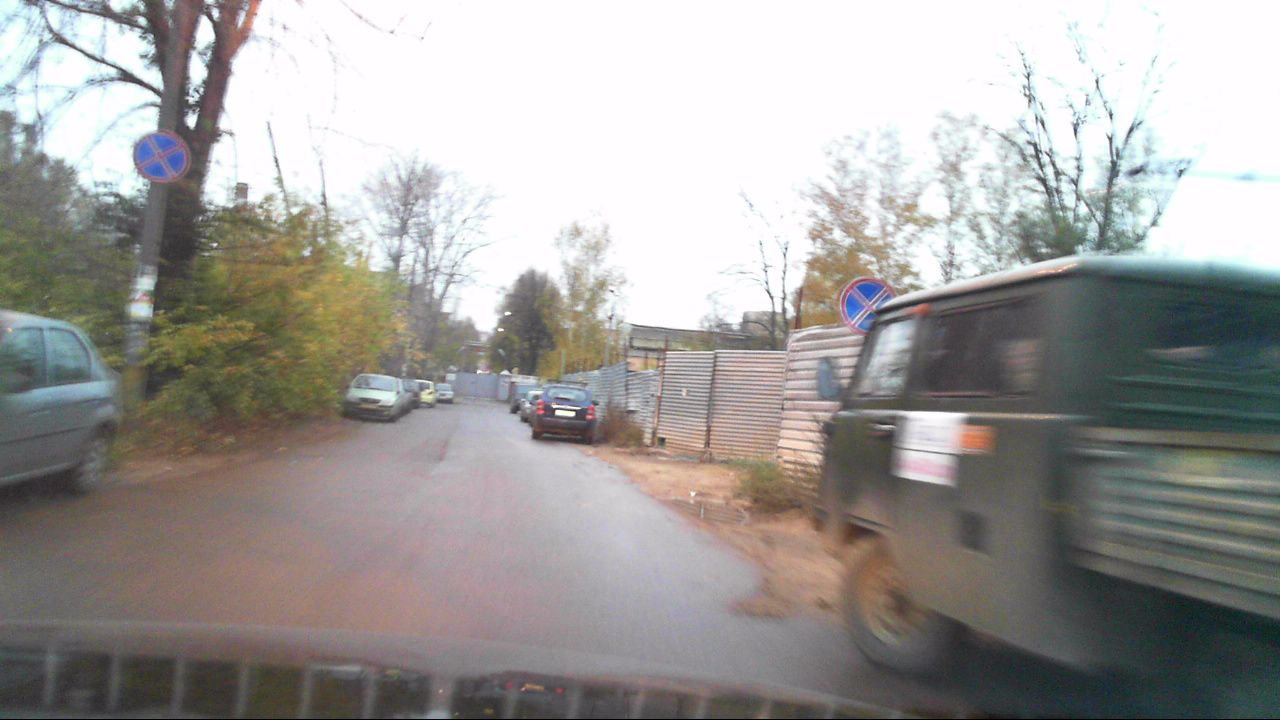No Parking: (837, 278, 895, 335)
